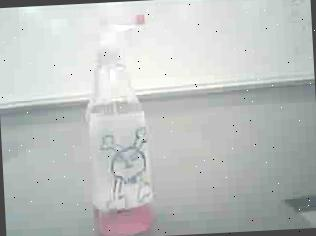hazard: (73, 5, 177, 236)
